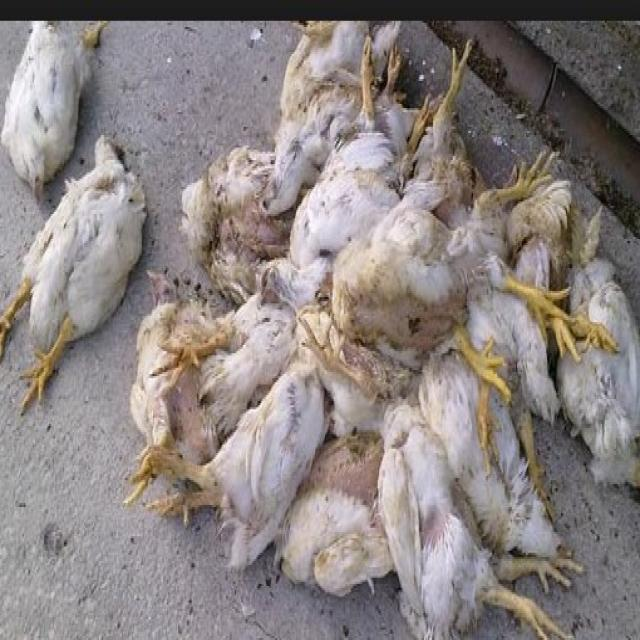Organik: (187, 137, 574, 594), (2, 118, 154, 377)
